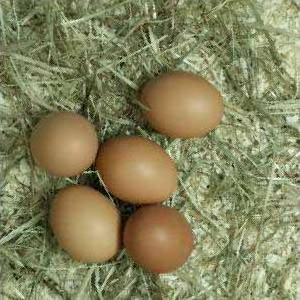egg: (48, 185, 122, 264), (98, 136, 177, 204), (142, 73, 223, 136), (124, 205, 194, 274), (33, 114, 98, 173)
